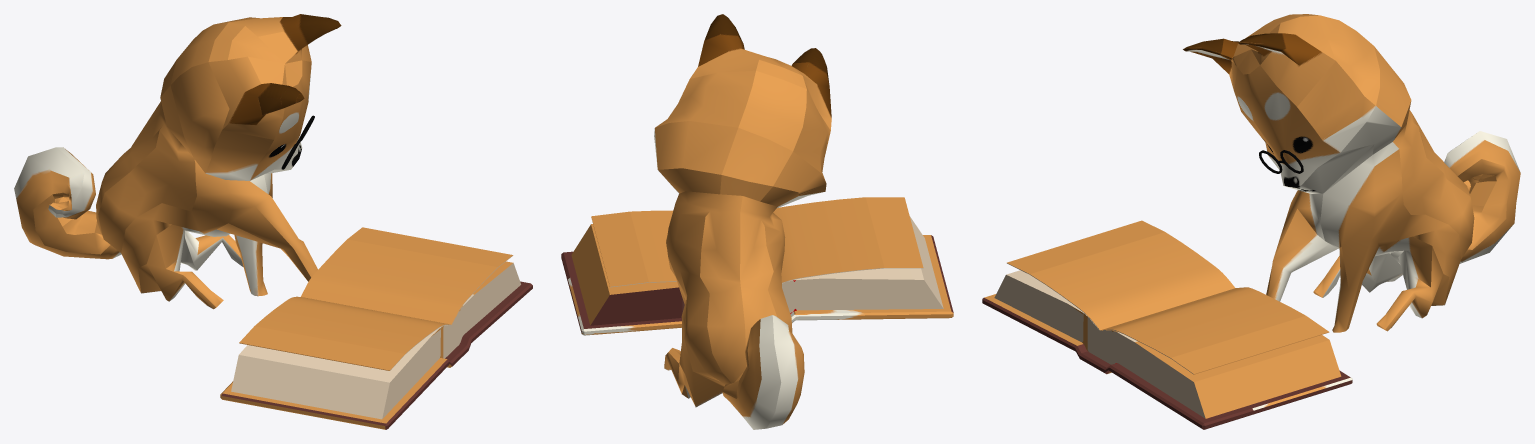
Rendered from book_frame37.obj.
The picture shows the model from 3 angles, left to right: view 1: azimuth 30°, elevation 25°; view 2: azimuth 150°, elevation 25°; view 3: azimuth 270°, elevation 25°; orthographic projection. The views are drawn at different scales.
Parts seen in each view (by area): view 1: StidyGlasses_Computer_Sitting:Sitting:newRigging:BodzL1, polySurface1; view 2: StidyGlasses_Computer_Sitting:Sitting:newRigging:BodzL1, polySurface1; view 3: StidyGlasses_Computer_Sitting:Sitting:newRigging:BodzL1, polySurface1.
Boxes of the visible parts, x1=… form: StidyGlasses_Computer_Sitting:Sitting:newRigging:BodzL1: x1=14, y1=14, x2=341, y2=309; polySurface1: x1=220, y1=227, x2=532, y2=429; StidyGlasses_Computer_Sitting:Sitting:newRigging:BodzL1: x1=654, y1=14, x2=831, y2=429; polySurface1: x1=561, y1=197, x2=953, y2=335; StidyGlasses_Computer_Sitting:Sitting:newRigging:BodzL1: x1=1183, y1=14, x2=1520, y2=332; polySurface1: x1=982, y1=220, x2=1352, y2=429.
Bounding box in the file's own units: 9.11 × 6.98 × 11.12.
4 materials, 4 textured.
